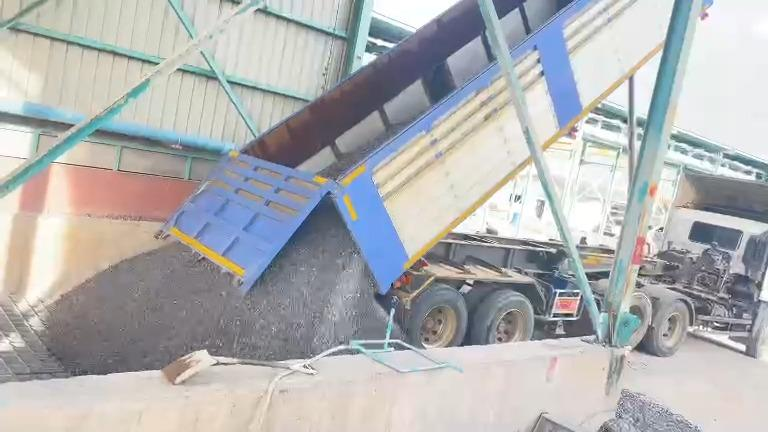gravel: (42, 202, 387, 373), (320, 123, 408, 177), (598, 389, 701, 431), (395, 332, 398, 335)
